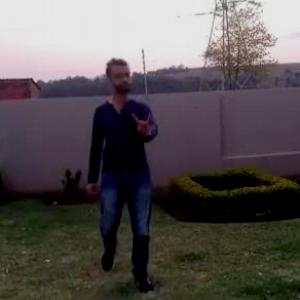takeoff-hand: (130, 105, 154, 140)
